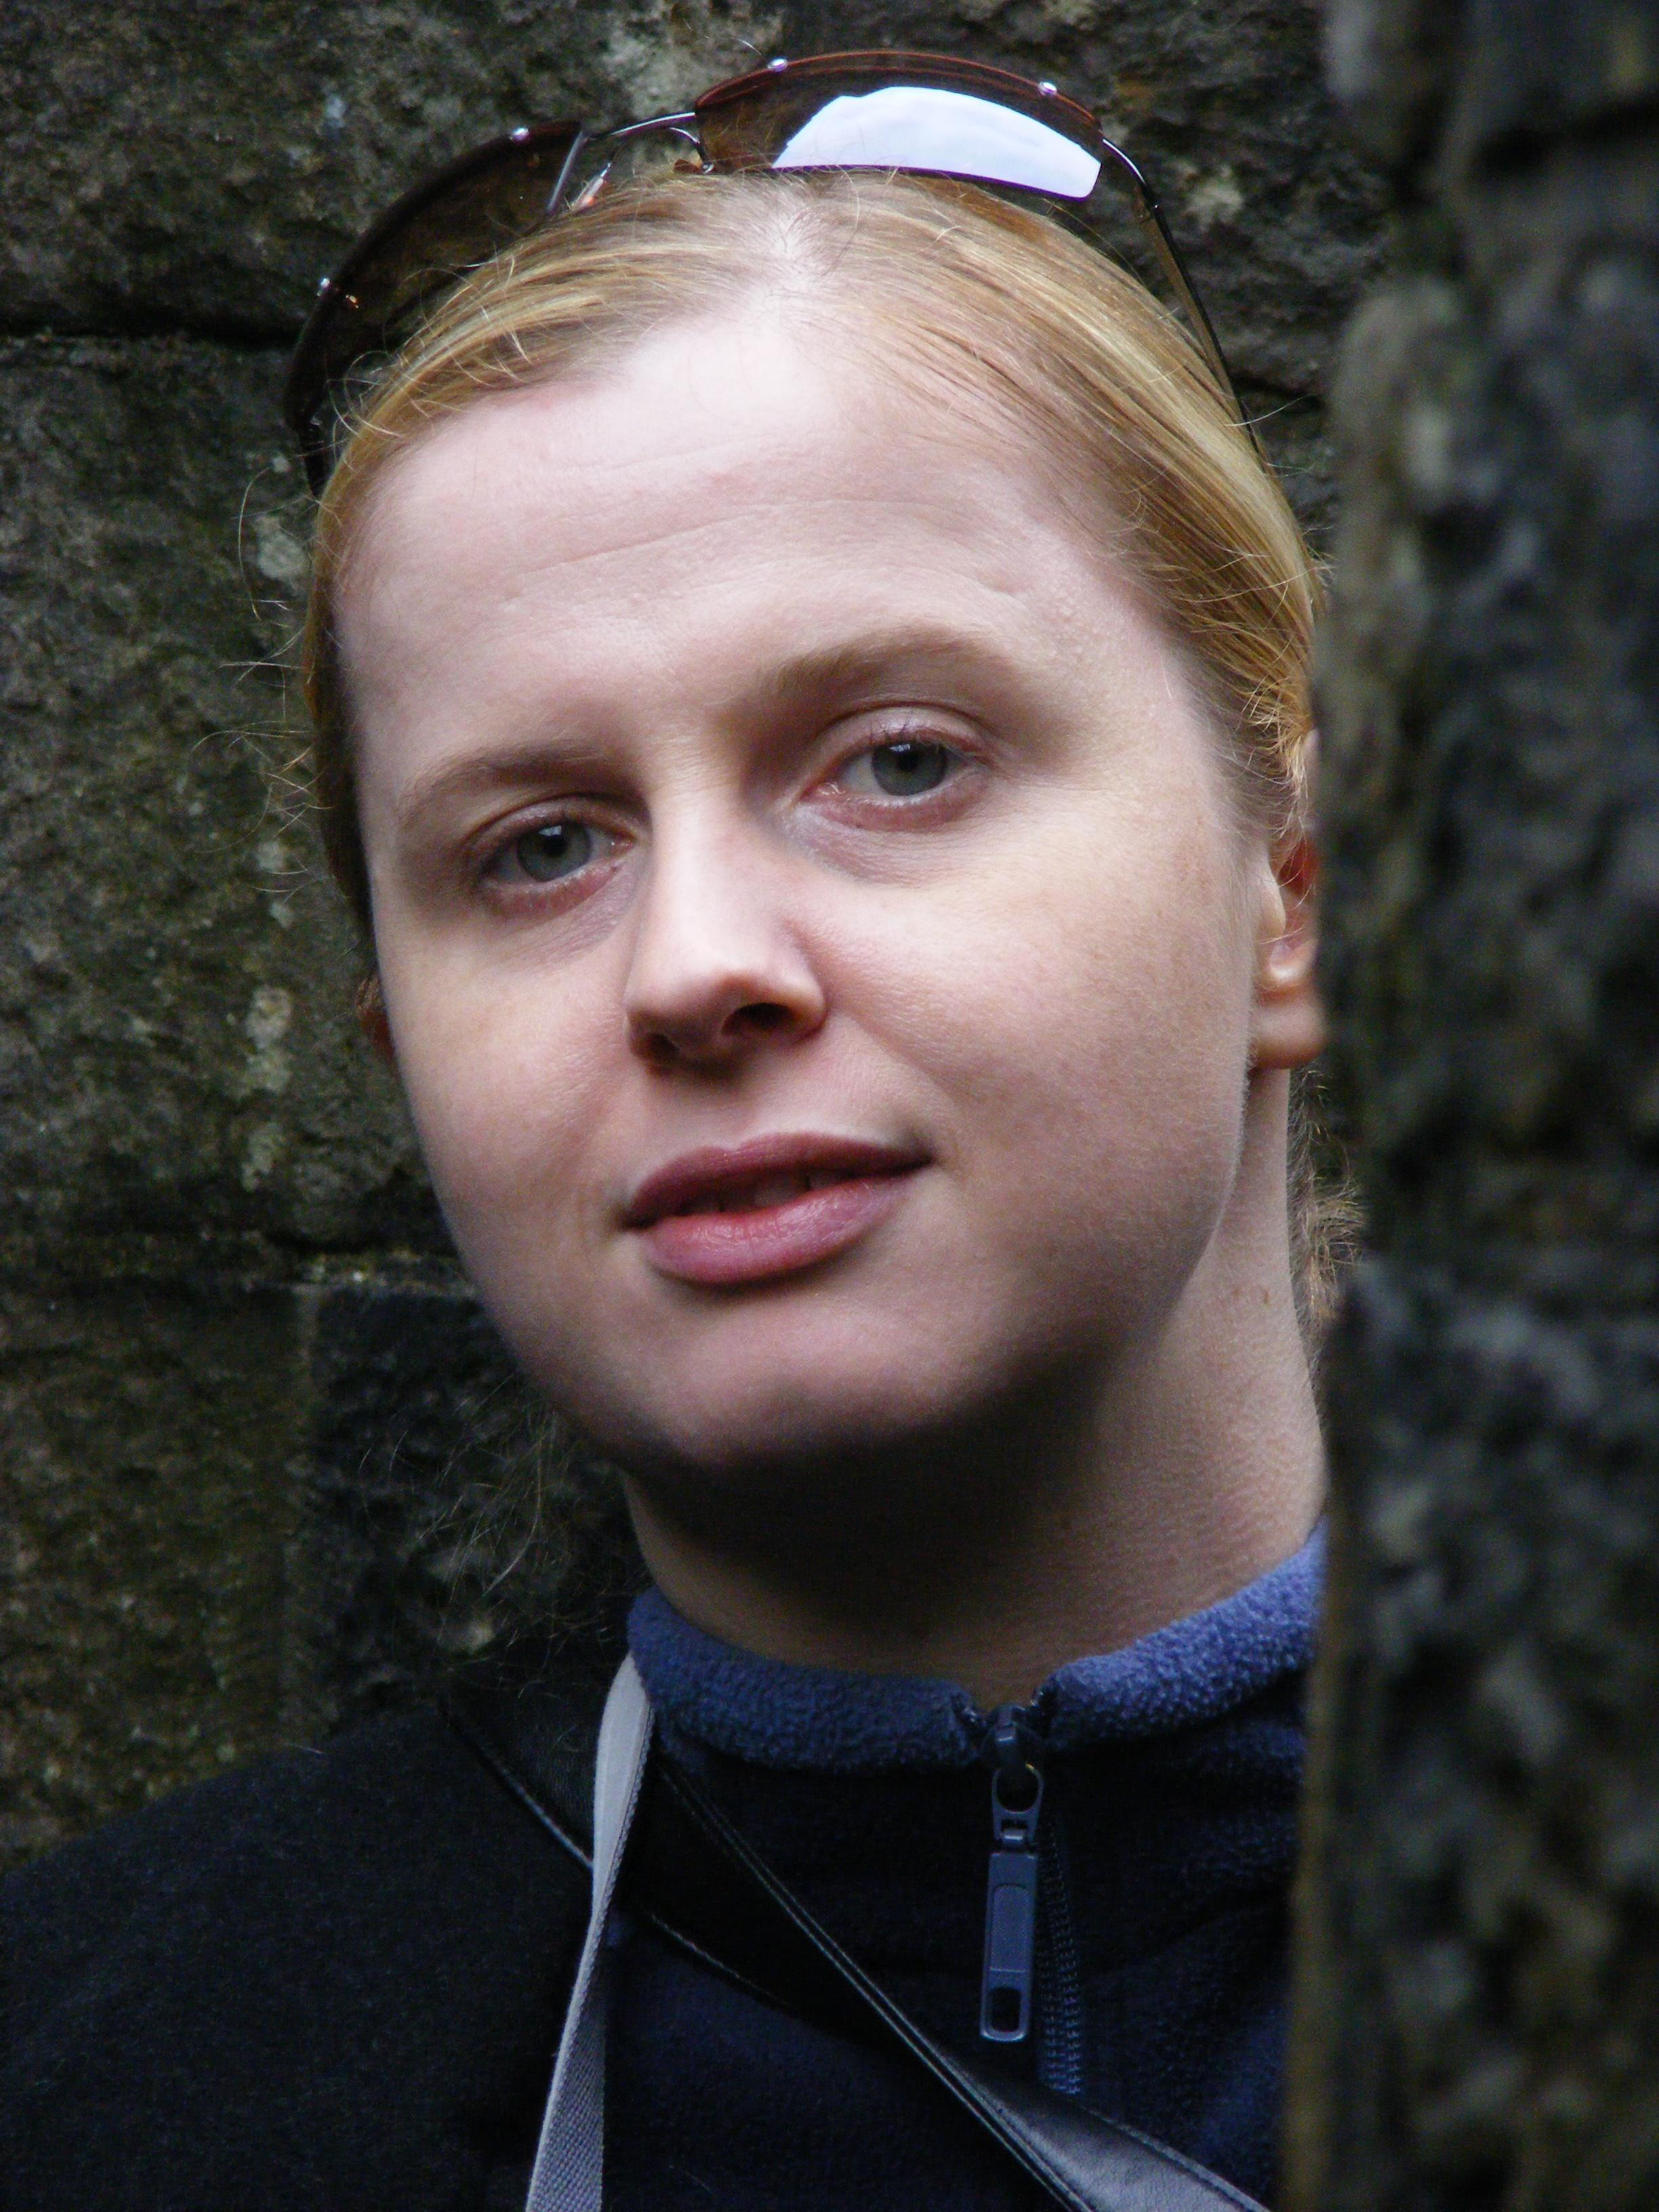Eyebags: (782, 780, 997, 900), (472, 845, 652, 965)
